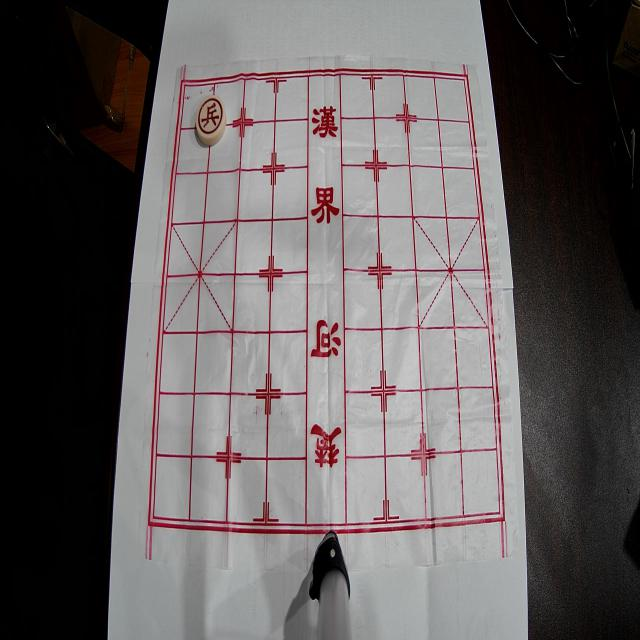red-soldier: (196, 95, 226, 145)
